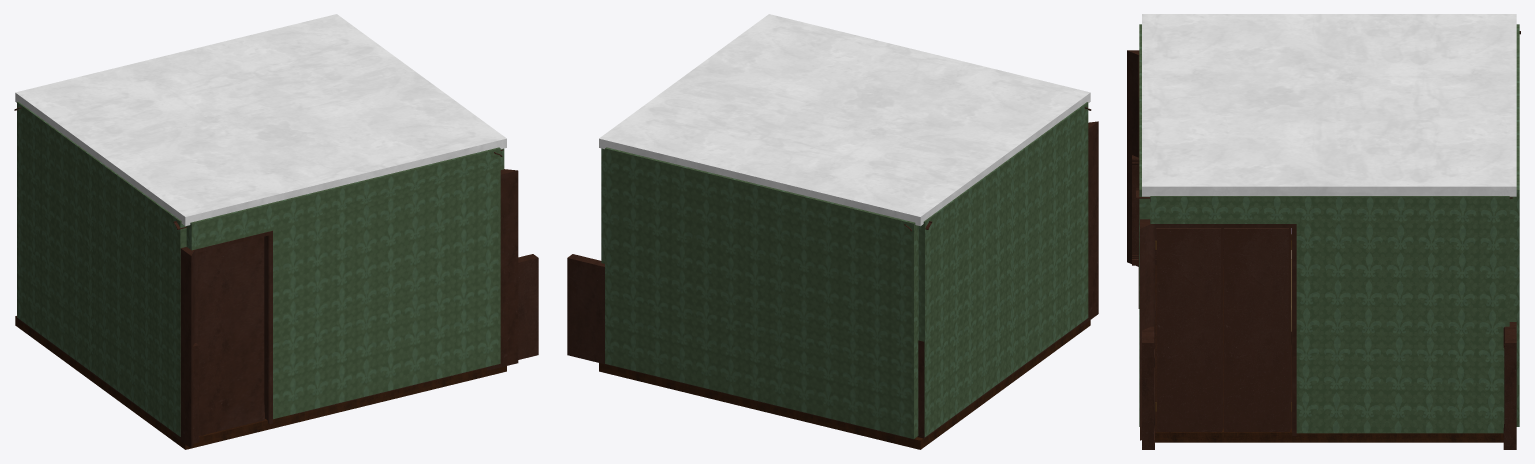
The picture shows the model from 3 angles, left to right: view 1: azimuth 30°, elevation 25°; view 2: azimuth 150°, elevation 25°; view 3: azimuth 270°, elevation 25°; orthographic projection. The views are drawn at different scales.
Visible parts, largest first — view 1: Object_3, Object_17, Object_5, Object_31, Object_22, Object_4, Object_21, Object_29, Object_14; view 2: Object_6, Object_3, Object_5, Object_4, Object_28, Object_22, Object_14; view 3: Object_3, Object_18, Object_8, Object_4, Object_21, Object_6, Object_22, Object_28, Object_29, Object_17, Object_14.
Boxes of the visible parts, x1,y1,x2,y2 form: Object_3: (15,14,506,226); Object_17: (186,147,500,419); Object_5: (17,101,186,436); Object_31: (198,236,264,435); Object_22: (173,230,272,448); Object_4: (15,316,506,449); Object_21: (487,169,518,370); Object_29: (290,254,538,415); Object_14: (17,318,199,443); Object_6: (605,147,918,438); Object_3: (599,14,1090,226); Object_5: (918,102,1088,437); Object_4: (599,320,1090,449); Object_28: (567,254,916,439); Object_22: (1080,121,1098,326); Object_14: (917,324,1080,438); Object_3: (1142,14,1516,196); Object_18: (1150,196,1509,433); Object_8: (1156,228,1291,431); Object_4: (1155,265,1503,442); Object_21: (1140,219,1296,440); Object_6: (1509,24,1519,426); Object_22: (1127,50,1139,308); Object_28: (1503,322,1516,449); Object_29: (1142,326,1154,449); Object_17: (1139,24,1150,426); Object_14: (1132,155,1223,315).
Size of the model in its own units: 417 by 259 by 362.
